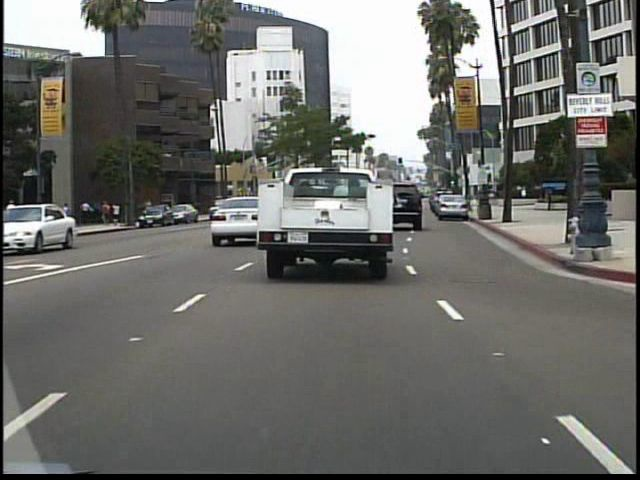person: (61, 198, 78, 233), (544, 183, 555, 214)
